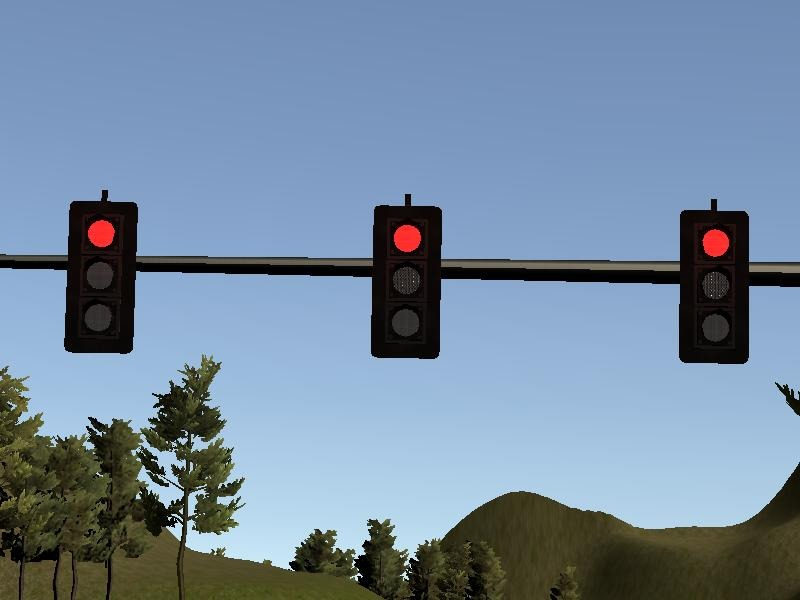red: (65, 200, 138, 354), (678, 208, 751, 362), (370, 204, 443, 358)
